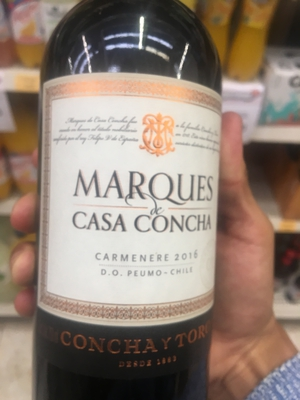marques de casa concha carmenere: (32, 17, 242, 387)
